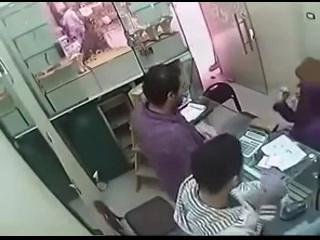Normal: (130, 61, 206, 200), (172, 132, 264, 236), (94, 196, 184, 236), (202, 82, 242, 112), (239, 125, 269, 158), (279, 201, 307, 221)
